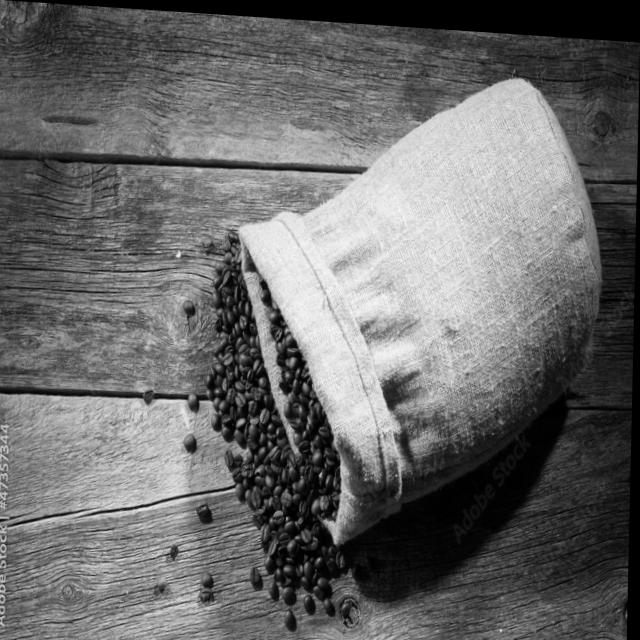sack: (233, 57, 604, 554)
